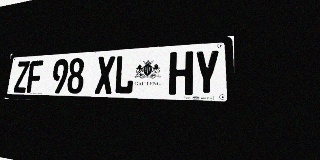8: (66, 58, 85, 94)
9: (51, 59, 69, 93)
F: (26, 60, 43, 93)
H: (168, 51, 193, 95)
L: (113, 55, 135, 94)
X: (95, 56, 115, 94)
Y: (193, 49, 220, 96)
Z: (13, 61, 30, 93)
